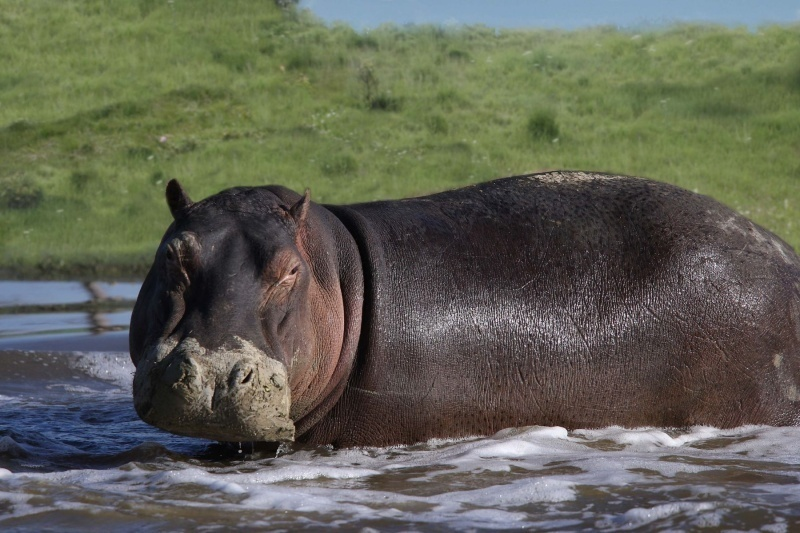hipopotamo: (119, 168, 800, 467)
